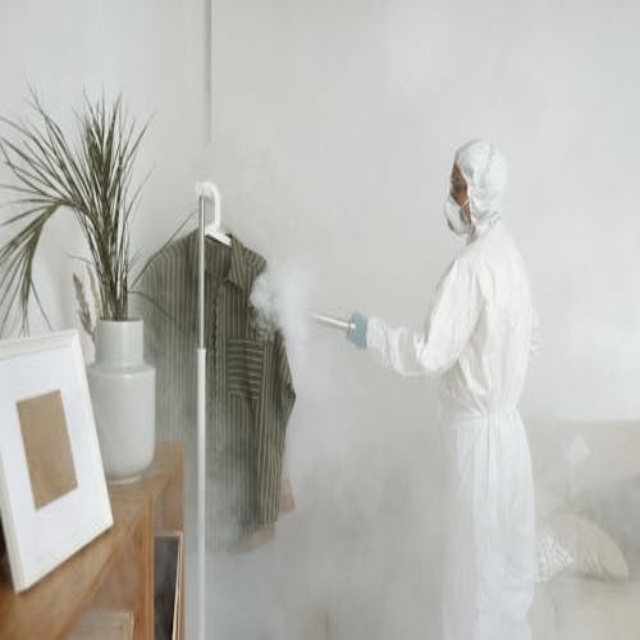Gafas: (450, 177, 467, 196)
Guantes: (343, 305, 371, 353)
Mascara: (444, 194, 469, 236)
